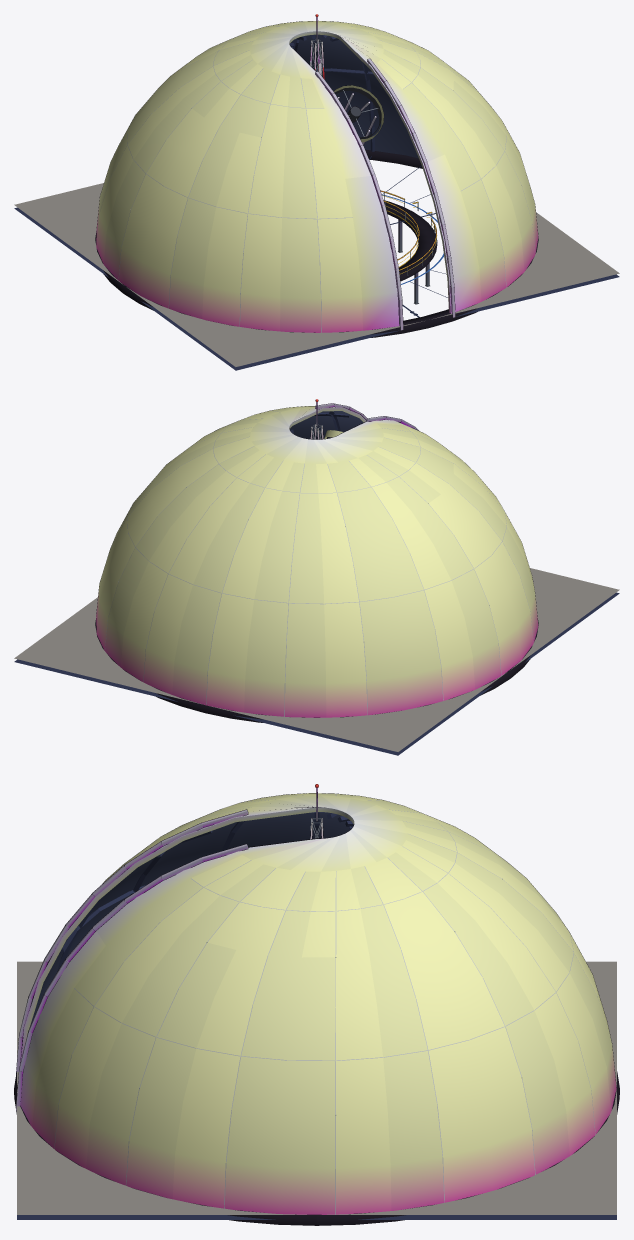
The model's file is fps-kit-observatory.glb.
3 renders of one model, top to bottom at view 1: azimuth 30°, elevation 25°; view 2: azimuth 150°, elevation 25°; view 3: azimuth 270°, elevation 25°, orthographic. The views are drawn at different scales.
Parts seen in each view (by area): view 1: KIT_OBSERVATORY_Landmark_Dome, KIT_OBSERVATORY_Landmark_Ring, KIT_OBSERVATORY_Landmark_Telescope; view 2: KIT_OBSERVATORY_Landmark_Dome; view 3: KIT_OBSERVATORY_Landmark_Dome.
Boxes of the visible parts, x1,y1,x2,y2 form: KIT_OBSERVATORY_Landmark_Dome: (14,20,619,370); KIT_OBSERVATORY_Landmark_Ring: (380,190,437,304); KIT_OBSERVATORY_Landmark_Telescope: (334,85,384,144); KIT_OBSERVATORY_Landmark_Dome: (14,403,619,755); KIT_OBSERVATORY_Landmark_Dome: (14,793,619,1225).
Bounding box in the file's own units: 48.46 × 32.05 × 48.48.
Materials: 1 (1 with a texture image).
